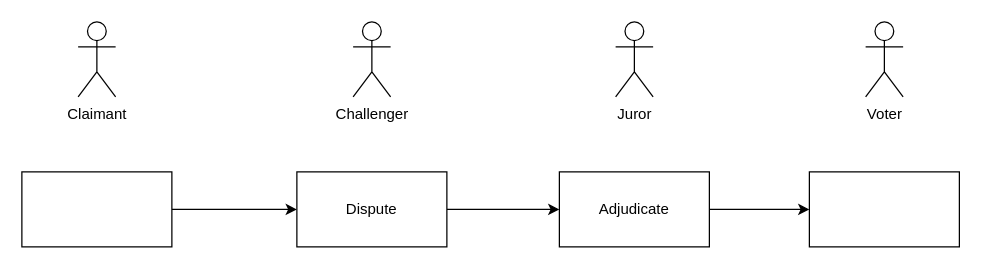
The diagram is 981 pixels wide and 269 high, and some of its shapes have lost their labels. The shapes that lost their labels are listed below. From the top down, each one's box as (x1, y1, x2, y2) in pixels, then its label:
(21, 171, 172, 247): Publish
(808, 171, 959, 247): Vote
